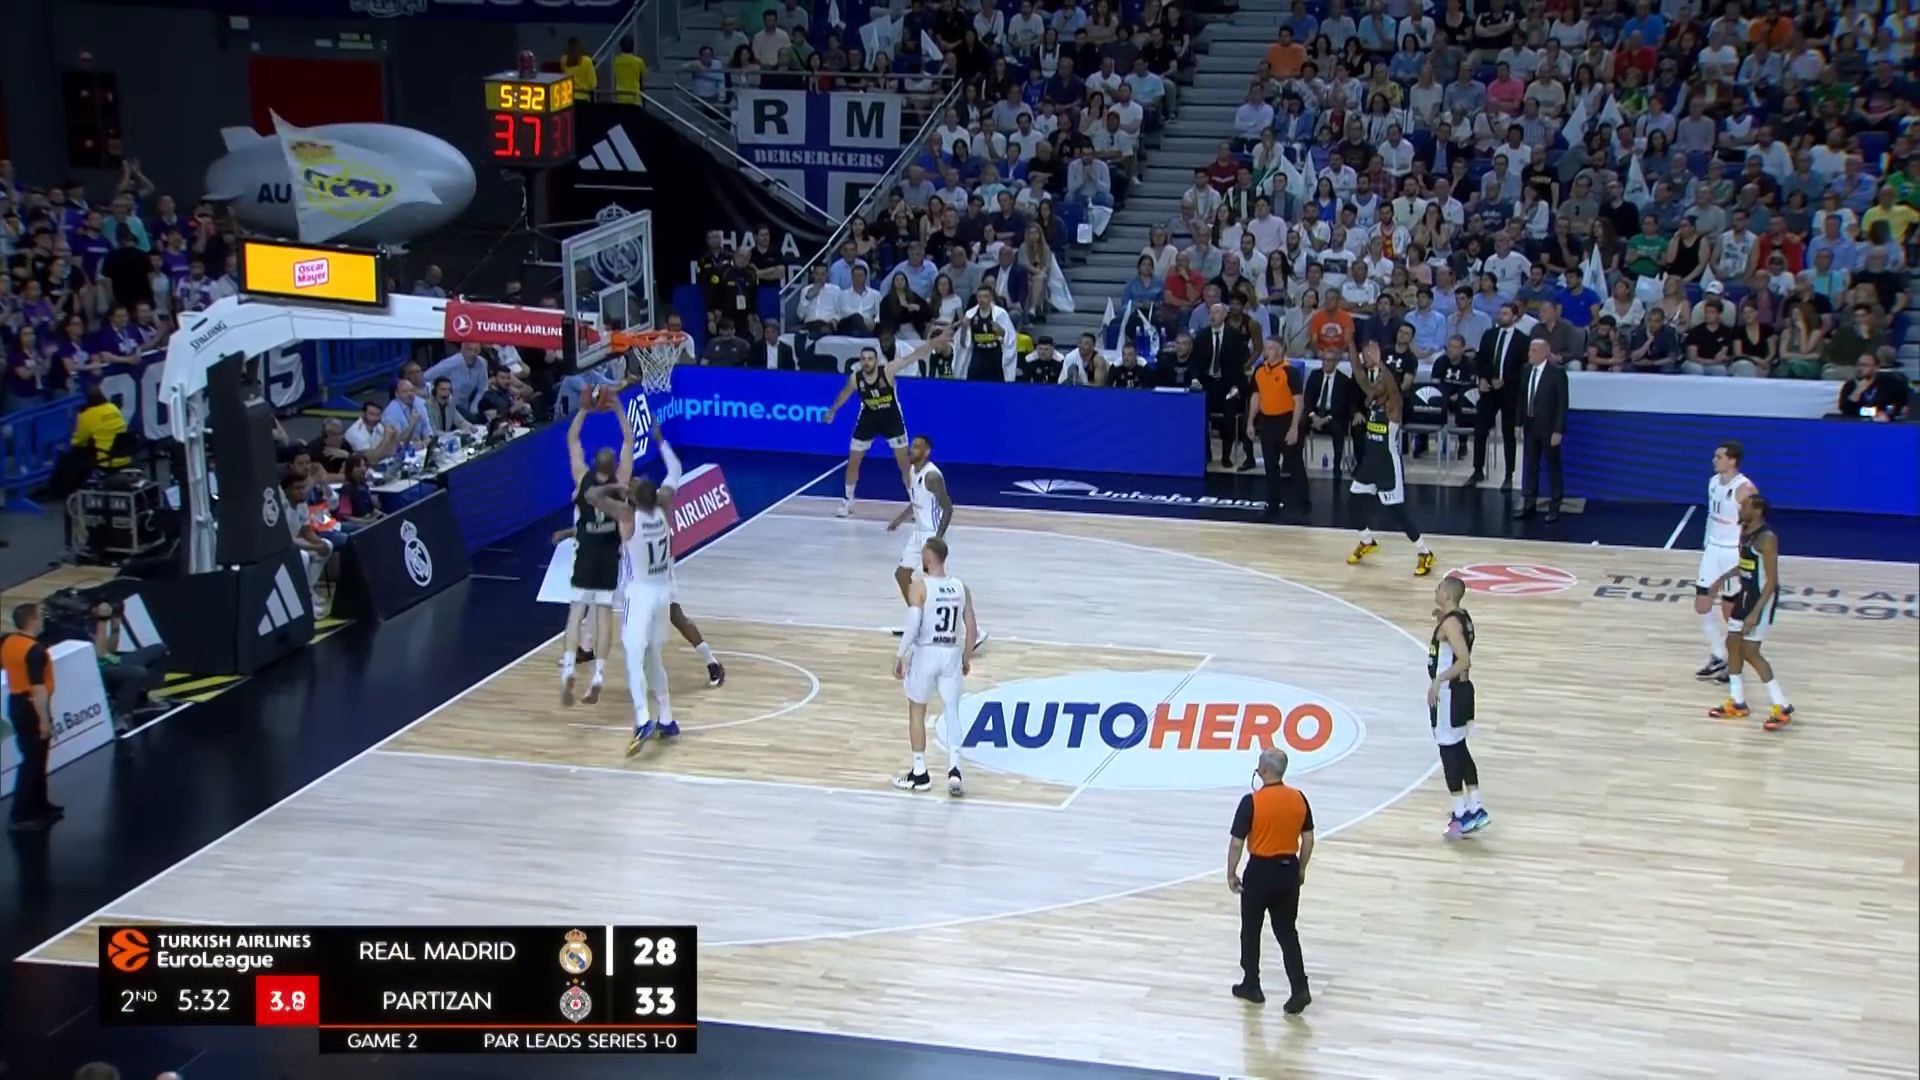ball: (578, 380, 617, 413)
net: (632, 331, 688, 396)
